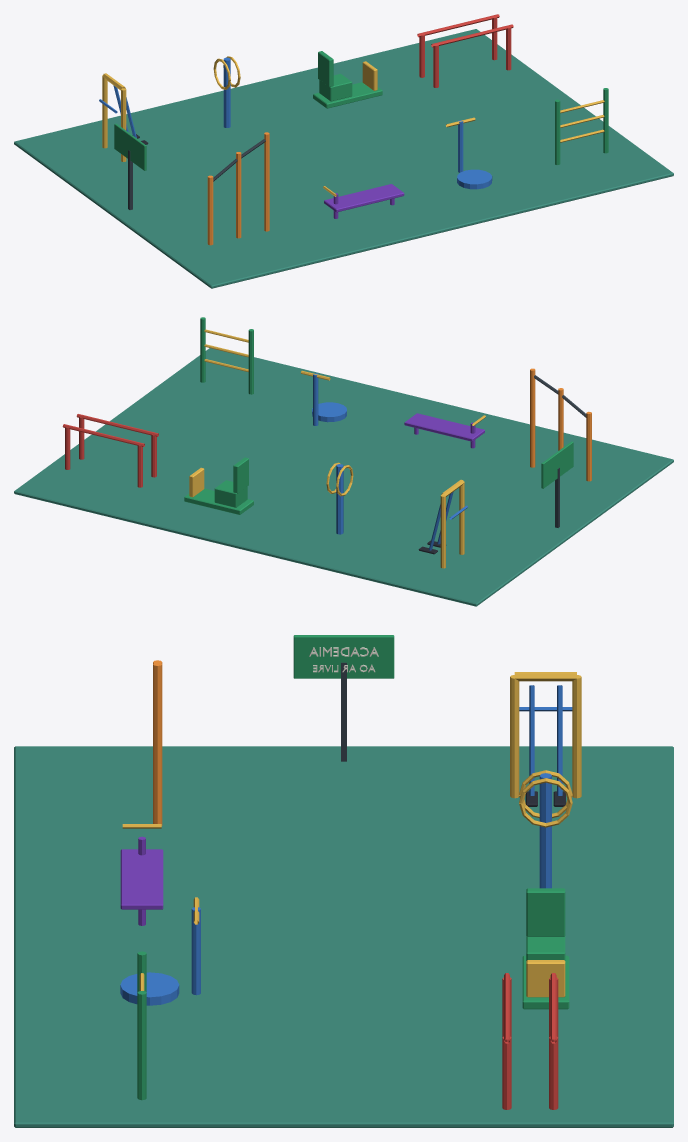
The model's file is academia.glb.
3 views of the same model, one above another, from view 1: azimuth 30°, elevation 25°; view 2: azimuth 150°, elevation 25°; view 3: azimuth 270°, elevation 25° (orthographic). The views are drawn at different scales.
Parts seen in each view (by area): view 1: academia; view 2: academia; view 3: academia.
Boxes of the visible parts, x1,y1,x2,y2 form: academia: (14, 14, 673, 288); academia: (14, 317, 673, 606); academia: (14, 635, 673, 1127).
Bounding box in the file's own units: 11.5 × 2.38 × 8.5.
